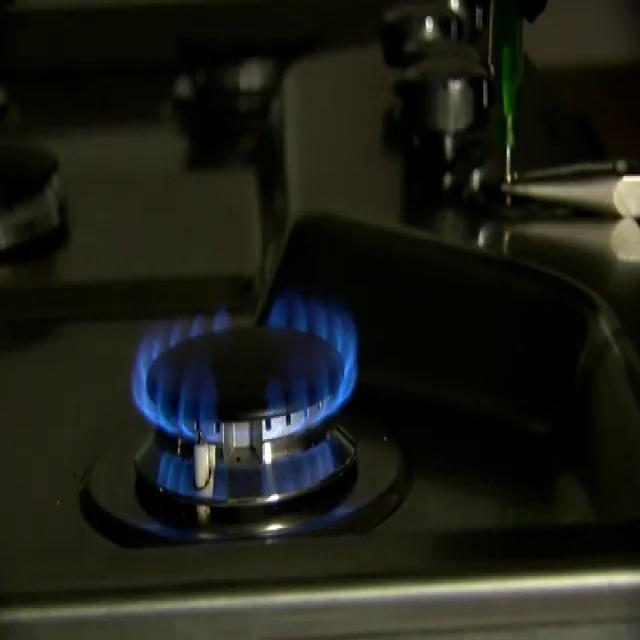fire: (126, 199, 382, 532)
